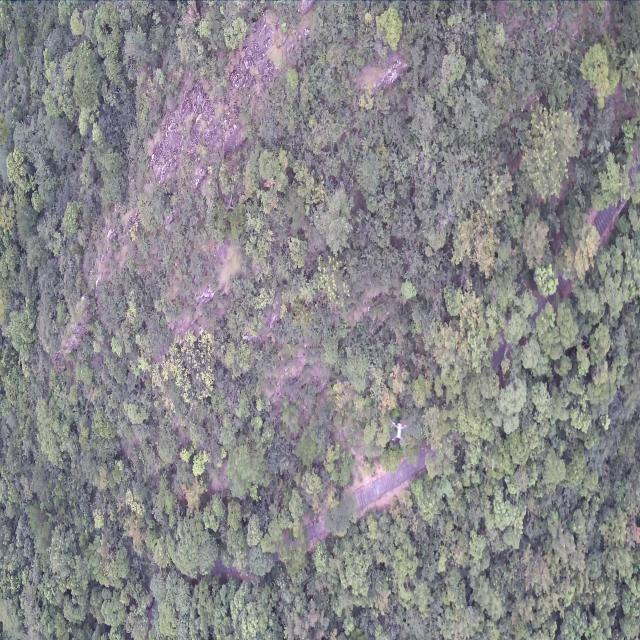drone: (391, 421, 407, 443)
